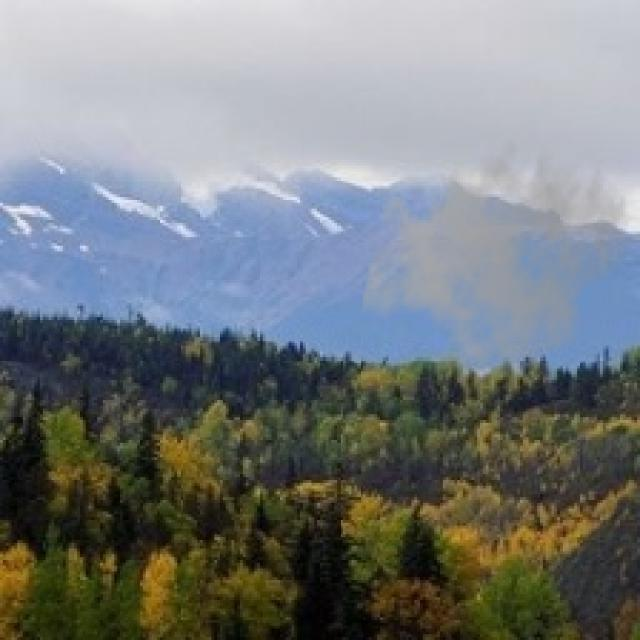smoke: (360, 129, 631, 380)
